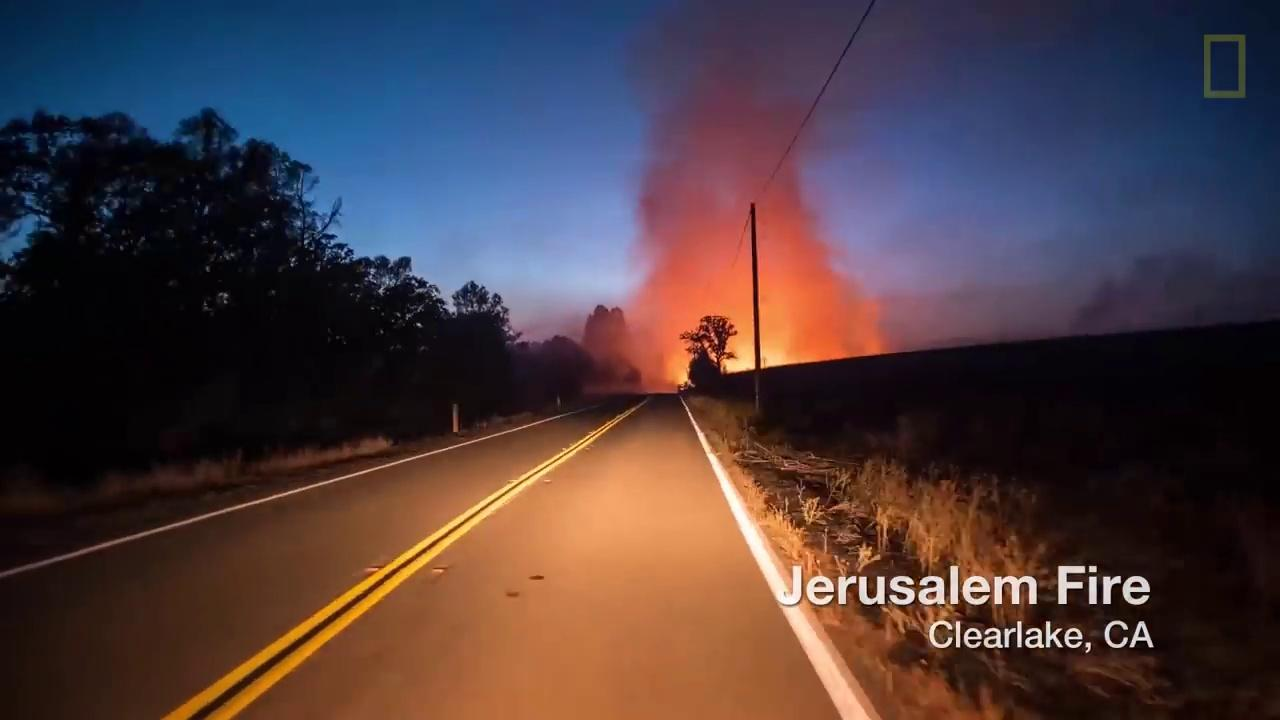Fire: (733, 337, 789, 377)
